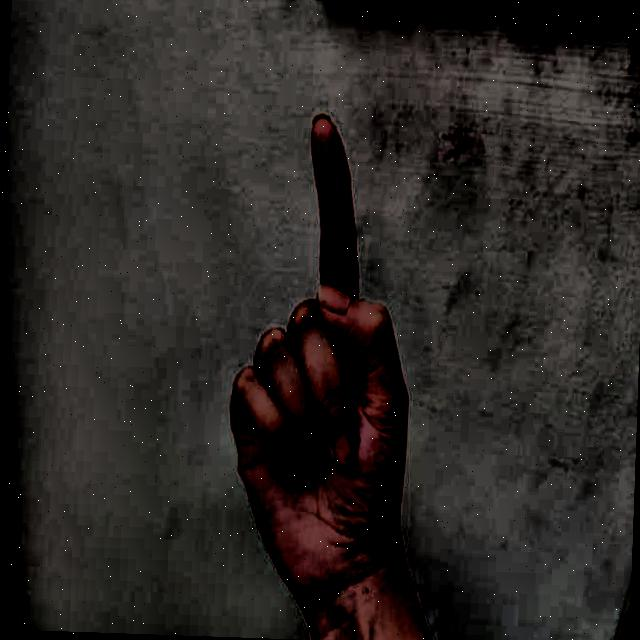U: (193, 75, 441, 588)
